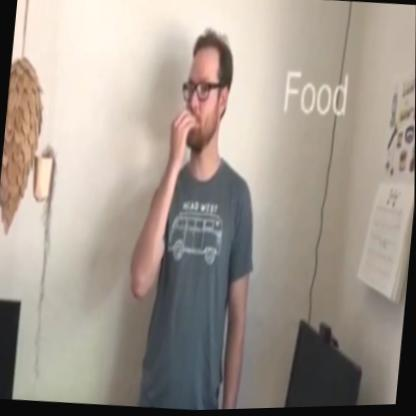Food: (162, 19, 248, 180)
